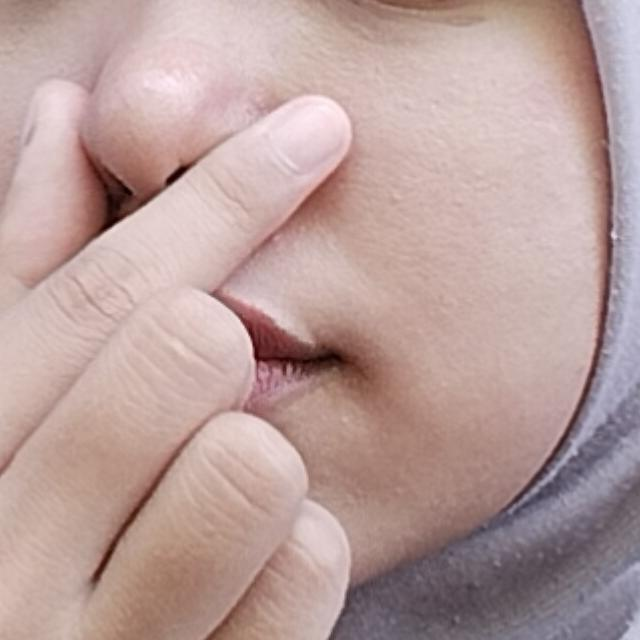bau: (0, 78, 470, 640)
